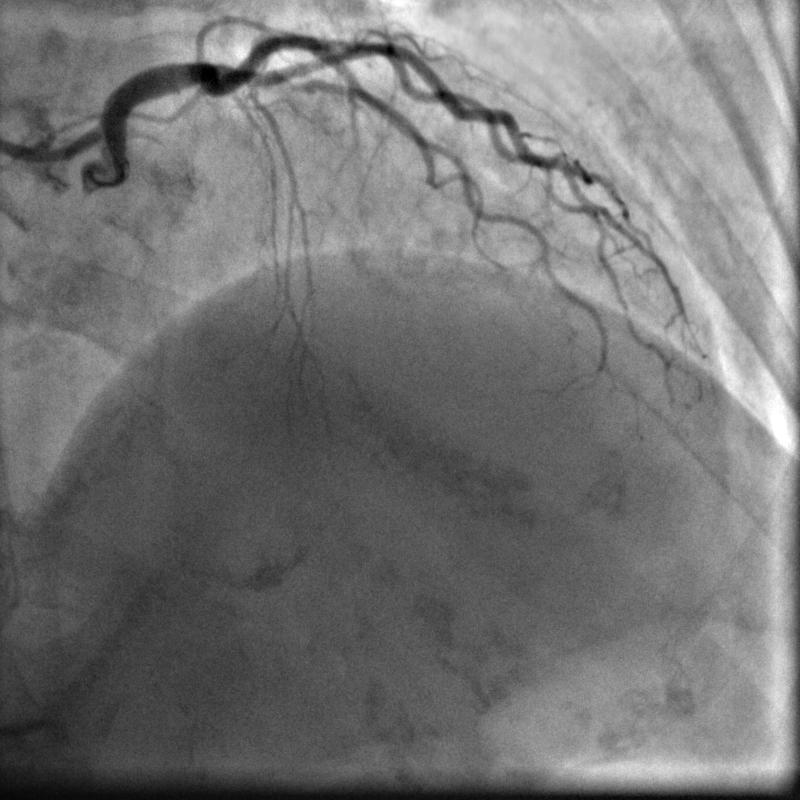Stenosis: (288, 77, 322, 93)
